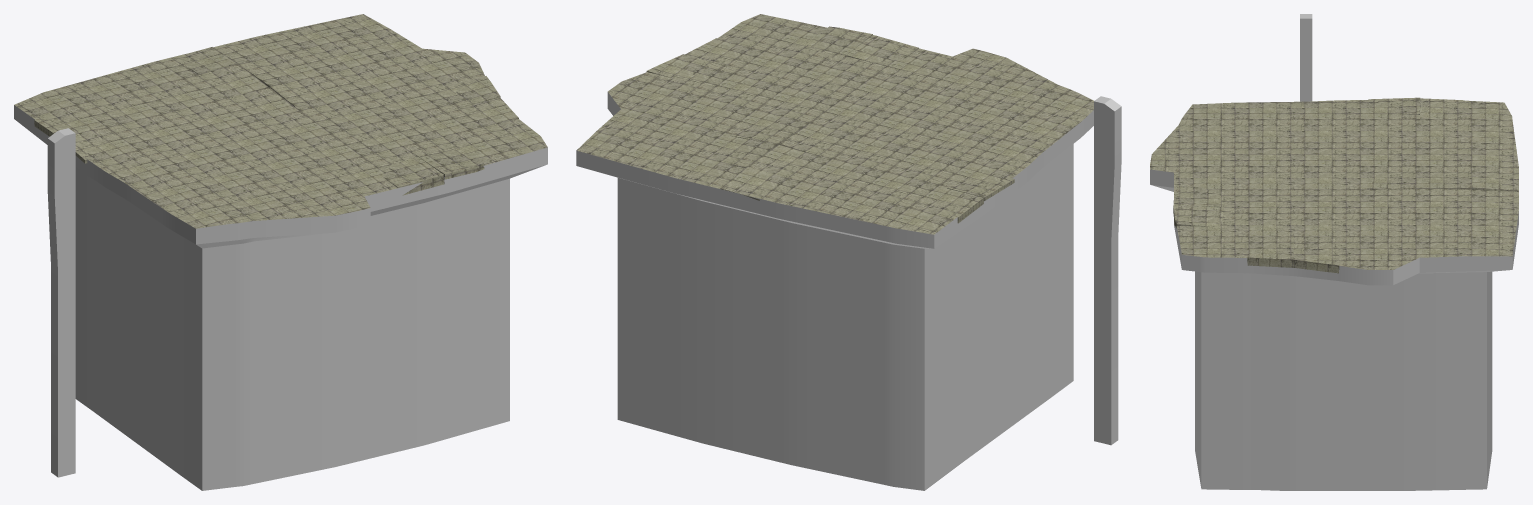
The model's file is SM_Corridor_08_02.fbx.
The picture shows the model from 3 angles, left to right: view 1: azimuth 30°, elevation 25°; view 2: azimuth 150°, elevation 25°; view 3: azimuth 270°, elevation 25°; orthographic projection. The views are drawn at different scales.
Parts seen in each view (by area): view 1: SM_Corridor_08_02; view 2: SM_Corridor_08_02; view 3: SM_Corridor_08_02.
Part boxes in pixels (x1,y1,x2,y2): SM_Corridor_08_02: (14,14,547,490); SM_Corridor_08_02: (576,14,1121,490); SM_Corridor_08_02: (1150,14,1518,490).
Size of the model in its own units: 6138 by 4313 by 4730.
